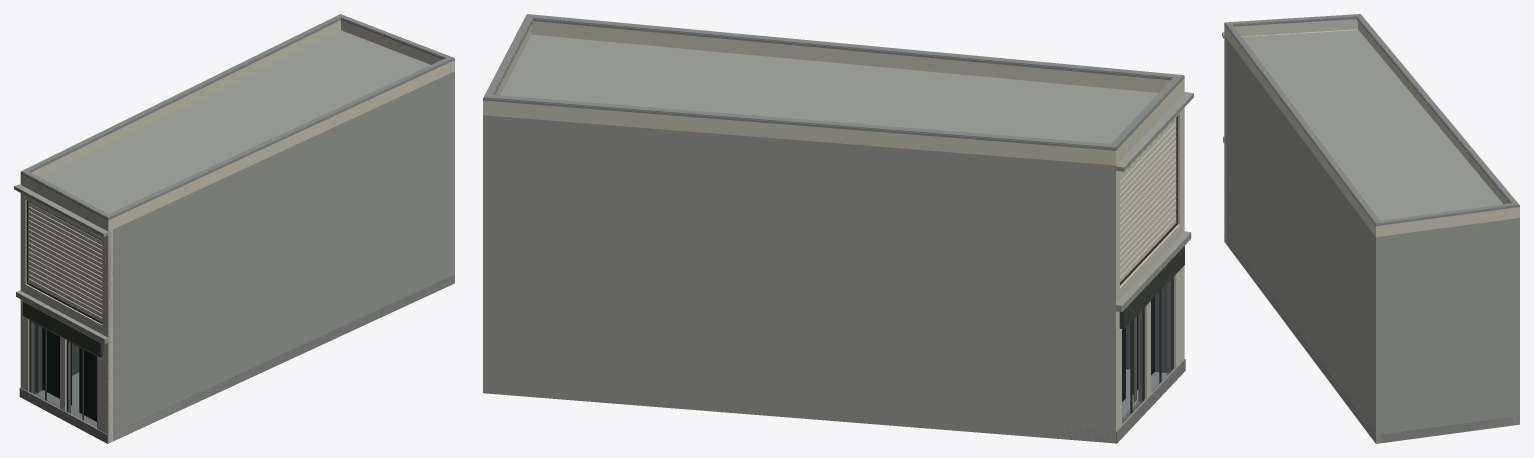
The model's file is building.glb.
3 views of the same model, side by side, from view 1: azimuth 30°, elevation 25°; view 2: azimuth 150°, elevation 25°; view 3: azimuth 270°, elevation 25° (orthographic). The views are drawn at different scales.
Parts seen in each view (by area): view 1: main:0/edge1/z0/main:0/edge1/z0/wall_0_0/core0, roof/main:0/roof_slab#0001, roof/main:0/parapet#0001, main:0/edge0/z0/main:0/edge0/z0/wall_0_0/core0, roof/main:0/parapet_cap#0002, main:0/edge1/z0/plinth#0001, roof/main:0/parapet_cap#0001, main:0/edge0/z0/opening_u2.04_v0.08/glazing#0001, main:0/edge0/z0/opening_u0.35_v0.18/glazing#0001, main:0/edge0/z0/proj_panel_00/facade_projection_panel#0001, main:0/edge0/z0/main:0/edge0/z0/wall_0_0/clip1, main:0/edge0/z0/opening_u0.35_v0.18/interior_backing#0001 (+7 smaller); view 2: main:0/edge3/z0/main:0/edge3/z0/wall_0_0/core0, roof/main:0/roof_slab#0001, roof/main:0/parapet#0001, roof/main:0/parapet_cap#0002, main:0/edge0/z0/main:0/edge0/z0/wall_0_0/core0, roof/main:0/parapet_cap#0001, main:0/edge1/z0/main:0/edge1/z0/wall_0_0/core0, main:0/edge0/z0/opening_u2.04_v0.08/glazing#0001, main:0/edge0/z0/opening_u0.35_v0.18/glazing#0001, main:0/edge0/z0/proj_panel_00/facade_projection_panel#0001, main:0/edge0/z0/top_cornice#0001, main:0/edge0/z0/floor_slab#0001 (+1 smaller); view 3: main:0/edge1/z0/main:0/edge1/z0/wall_0_0/core0, main:0/edge2/z0/main:0/edge2/z0/wall_0_0/core0, roof/main:0/roof_slab#0001, roof/main:0/parapet#0001, roof/main:0/parapet_cap#0002, roof/main:0/parapet_cap#0001, main:0/edge1/z0/main:0/edge1/z0/wall_0_0/clip2, main:0/edge3/z0/main:0/edge3/z0/wall_0_0/clip1, main:0/edge2/z0/plinth#0001, main:0/edge1/z0/plinth#0001, main:0/edge0/z0/main:0/edge0/z0/wall_0_0/clip1, main:0/edge2/z0/main:0/edge2/z0/wall_0_0/clip1 (+1 smaller).
Boxes of the visible parts, box(x1,y1,x2,y2) form: main:0/edge1/z0/main:0/edge1/z0/wall_0_0/core0: box(109, 78, 449, 442); roof/main:0/roof_slab#0001: box(42, 31, 454, 215); roof/main:0/parapet#0001: box(20, 20, 454, 231); main:0/edge0/z0/main:0/edge0/z0/wall_0_0/core0: box(20, 193, 107, 433); roof/main:0/parapet_cap#0002: box(21, 14, 453, 218); main:0/edge1/z0/plinth#0001: box(109, 274, 454, 441); roof/main:0/parapet_cap#0001: box(20, 18, 454, 220); main:0/edge0/z0/opening_u2.04_v0.08/glazing#0001: box(69, 342, 96, 427); main:0/edge0/z0/opening_u0.35_v0.18/glazing#0001: box(31, 322, 59, 407); main:0/edge0/z0/proj_panel_00/facade_projection_panel#0001: box(22, 301, 103, 357); main:0/edge0/z0/main:0/edge0/z0/wall_0_0/clip1: box(107, 229, 112, 442); main:0/edge0/z0/opening_u0.35_v0.18/interior_backing#0001: box(42, 328, 71, 404); main:0/edge3/z0/main:0/edge3/z0/wall_0_0/core0: box(483, 115, 1115, 443); roof/main:0/roof_slab#0001: box(503, 34, 1157, 170); roof/main:0/parapet#0001: box(483, 21, 1184, 165); roof/main:0/parapet_cap#0002: box(484, 14, 1183, 148); main:0/edge0/z0/main:0/edge0/z0/wall_0_0/core0: box(1116, 108, 1183, 431); roof/main:0/parapet_cap#0001: box(483, 15, 1184, 150); main:0/edge1/z0/main:0/edge1/z0/wall_0_0/core0: box(531, 35, 1166, 372); main:0/edge0/z0/opening_u2.04_v0.08/glazing#0001: box(1151, 280, 1171, 392); main:0/edge0/z0/opening_u0.35_v0.18/glazing#0001: box(1122, 311, 1142, 422); main:0/edge0/z0/proj_panel_00/facade_projection_panel#0001: box(1119, 246, 1184, 329); main:0/edge0/z0/top_cornice#0001: box(1115, 92, 1193, 171); main:0/edge0/z0/floor_slab#0001: box(1115, 231, 1191, 311); main:0/edge1/z0/main:0/edge1/z0/wall_0_0/core0: box(1224, 36, 1375, 443); main:0/edge2/z0/main:0/edge2/z0/wall_0_0/core0: box(1382, 218, 1519, 440); roof/main:0/roof_slab#0001: box(1229, 30, 1519, 241); roof/main:0/parapet#0001: box(1224, 19, 1519, 236); roof/main:0/parapet_cap#0002: box(1225, 14, 1518, 224); roof/main:0/parapet_cap#0001: box(1224, 17, 1519, 226); main:0/edge1/z0/main:0/edge1/z0/wall_0_0/clip2: box(1376, 236, 1382, 443); main:0/edge3/z0/main:0/edge3/z0/wall_0_0/clip1: box(1513, 218, 1519, 425); main:0/edge2/z0/plinth#0001: box(1375, 416, 1519, 443); main:0/edge1/z0/plinth#0001: box(1225, 234, 1376, 442); main:0/edge0/z0/main:0/edge0/z0/wall_0_0/clip1: box(1224, 35, 1226, 244); main:0/edge2/z0/main:0/edge2/z0/wall_0_0/clip1: box(1373, 235, 1375, 438).
Bounding box in the file's own units: 14.6 × 7.02 × 8.61.
